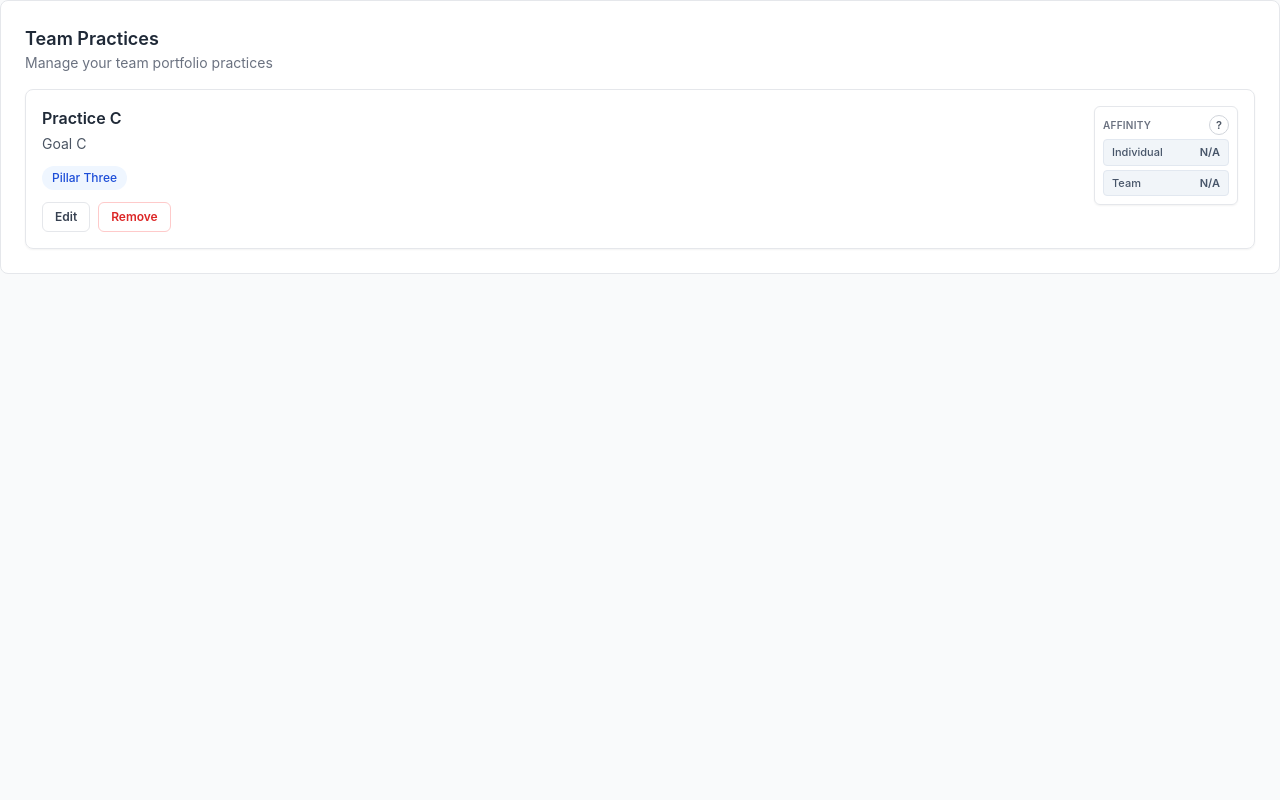
it: TeamPracticesPanel › removes practice on confirm and updates list
This screenshot has width=1280, height=800.
Expected: the heading "Practice C" is shown, [42,108,122,128]
Step 1. Click the button "Remove" → click(134, 217), box [98,202,171,232]
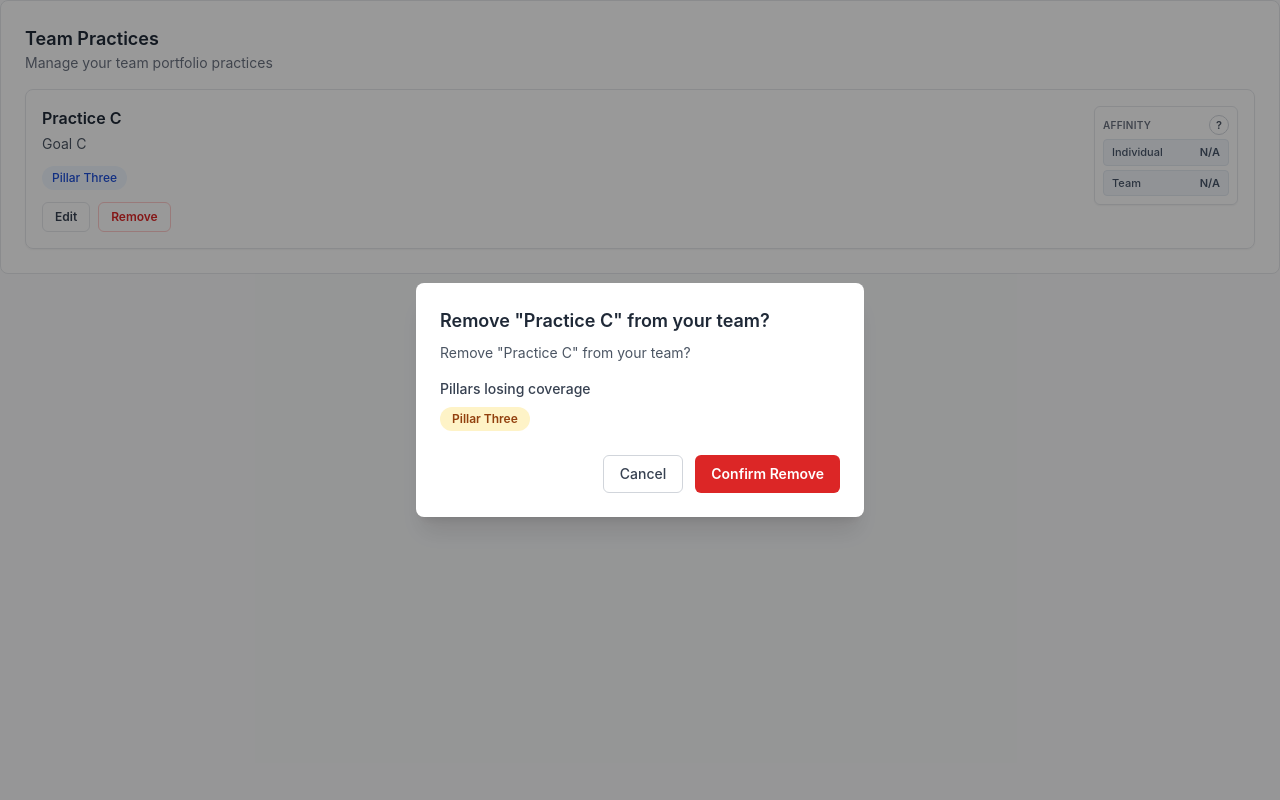
Step 2. Click the button "Confirm Remove" → click(768, 474), box [695,455,840,493]
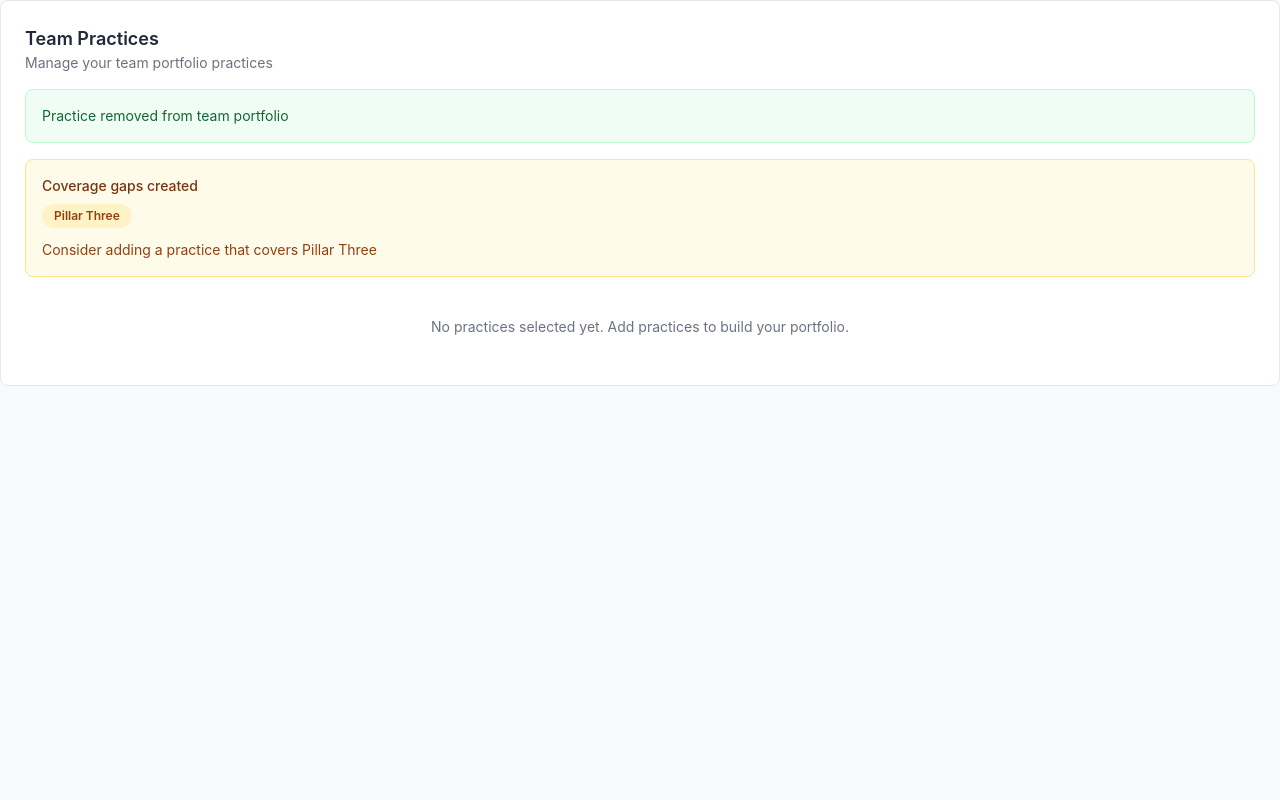
Result: the button "Practice C" is gone
